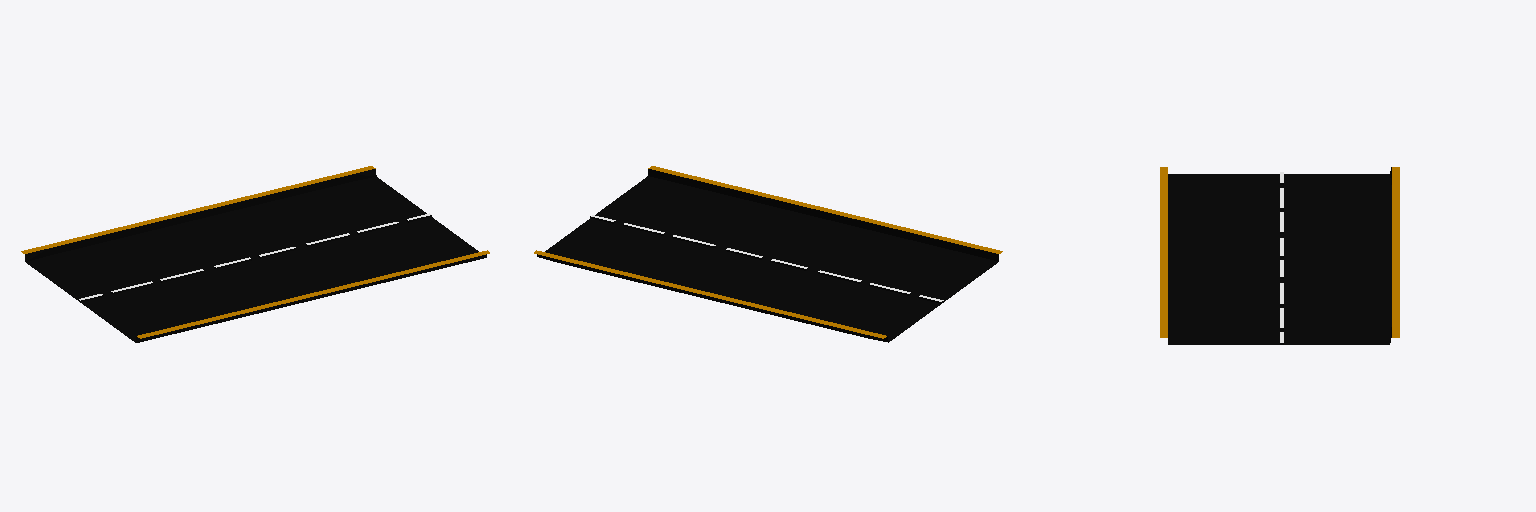
Rendered from road1_reto.obj.
The picture shows the model from 3 angles: view 1: azimuth 30°, elevation 25°; view 2: azimuth 150°, elevation 25°; view 3: azimuth 270°, elevation 25°; orthographic projection.
Parts seen in each view (by area): view 1: Plane; view 2: Plane; view 3: Plane.
Boxes of the visible parts, <box> form: Plane: <box>21,166,489,342</box>; Plane: <box>534,166,1002,342</box>; Plane: <box>1160,167,1399,344</box>.
Size of the model in its own units: 10 by 0.2 by 5.9.